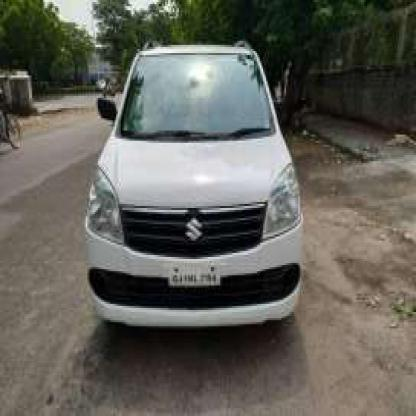license: (166, 261, 222, 288)
